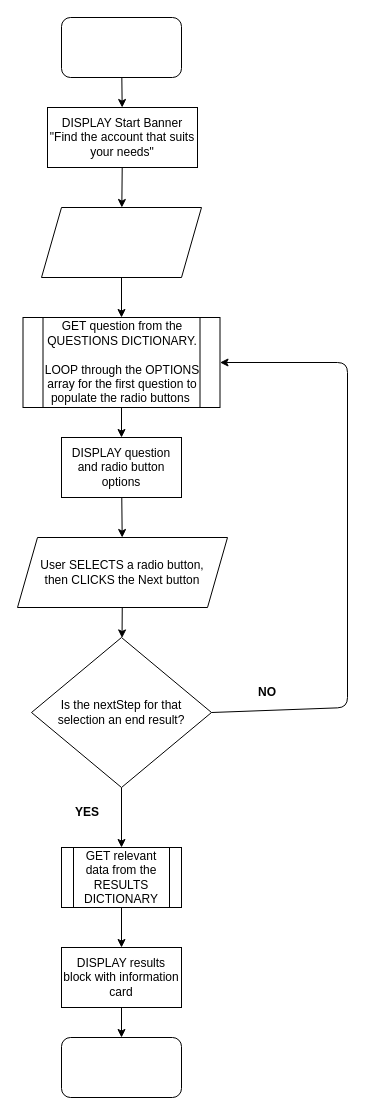
Image size: 373x1115. Some labels were removed from this diagram. Here are the shapes that lost their labels. From the top down, the box of each, then its label:
(60, 16, 182, 78): START
(40, 206, 202, 278): User CLICKS button to start programme
(60, 1036, 182, 1098): END
